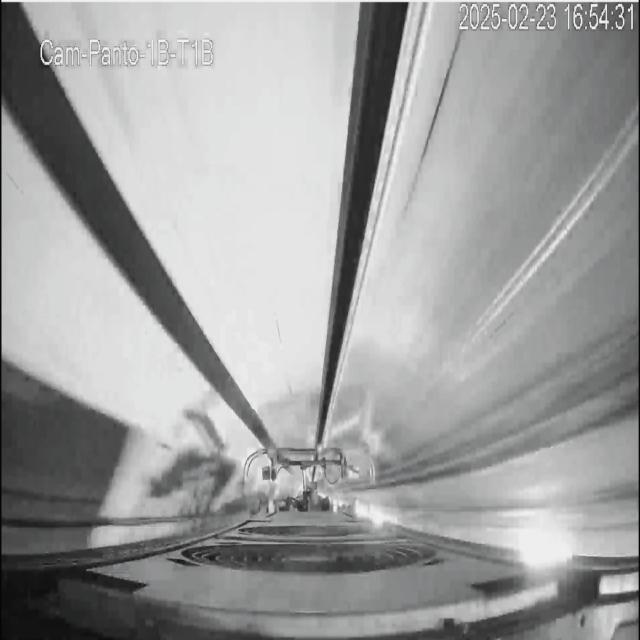Camera Stamp: (40, 33, 218, 69)
Date Stamp: (457, 3, 634, 33)
